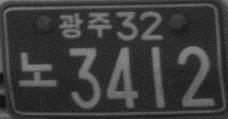1: (148, 43, 166, 112)
2: (176, 44, 217, 108), (139, 10, 163, 42)
3: (67, 45, 102, 109), (114, 9, 139, 42)
4: (105, 45, 140, 108)
광주_O: (58, 11, 112, 40)
노: (17, 48, 58, 88)
